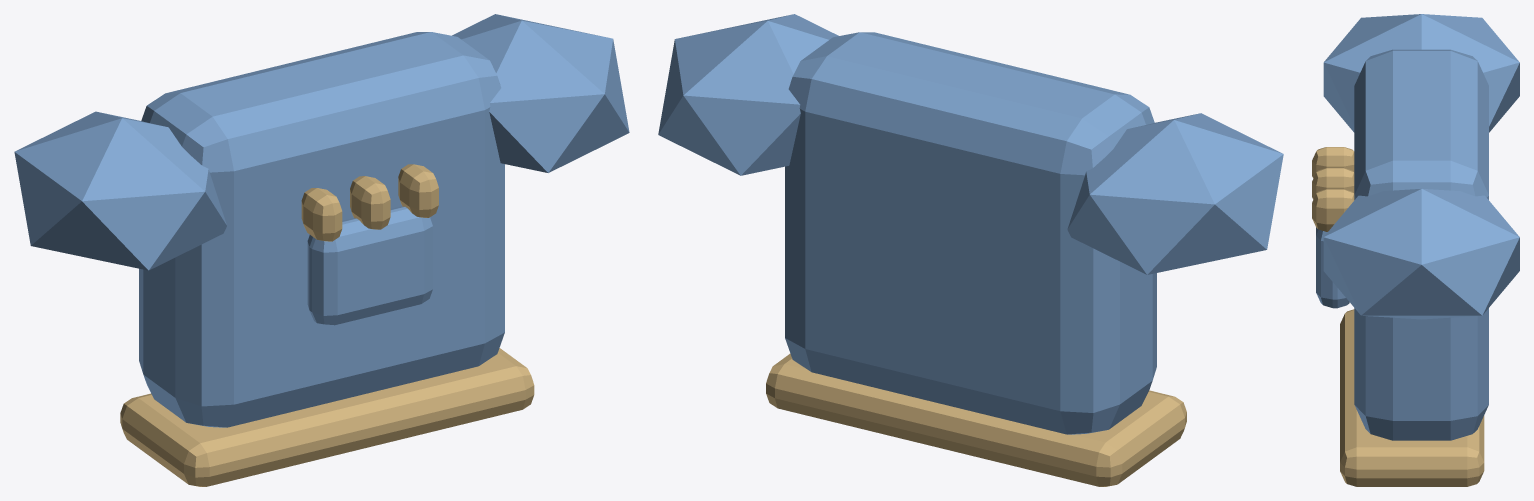
The model's file is arm_aegis_armor.glb.
3 renders of one model, left to right at view 1: azimuth 30°, elevation 25°; view 2: azimuth 150°, elevation 25°; view 3: azimuth 270°, elevation 25°, orthographic. The views are drawn at different scales.
Visible parts, largest first — view 1: arm_aegis_armor; view 2: arm_aegis_armor; view 3: arm_aegis_armor.
Part boxes in pixels (bbox=[...]): arm_aegis_armor: bbox=[14, 14, 629, 486]; arm_aegis_armor: bbox=[658, 14, 1283, 486]; arm_aegis_armor: bbox=[1312, 14, 1519, 486].
Size of the model in its own units: 1.25 by 0.725 by 0.4322.
